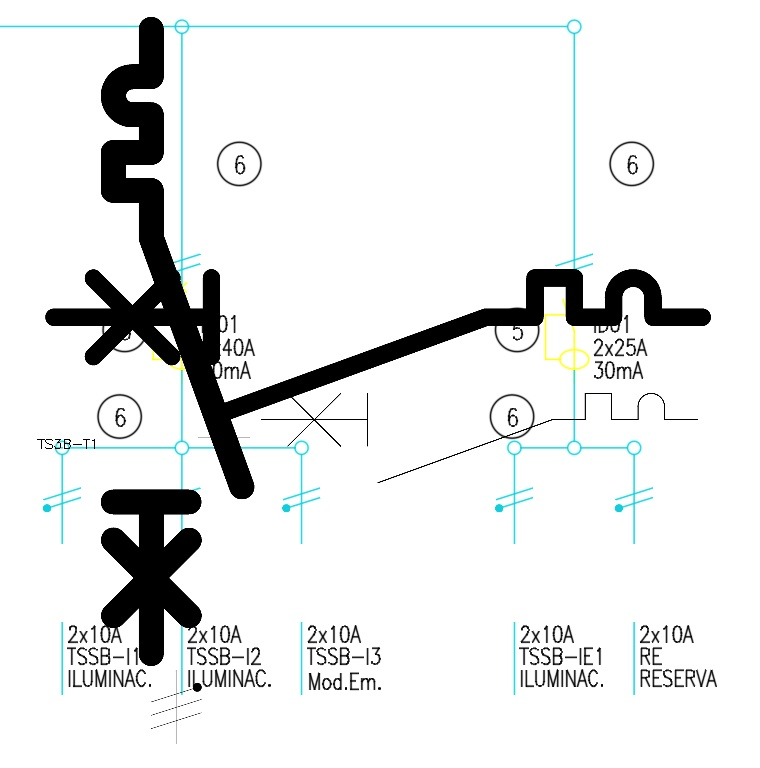interruptor_termomagnetico: (37, 261, 719, 428), (97, 13, 257, 669), (249, 382, 708, 494)
